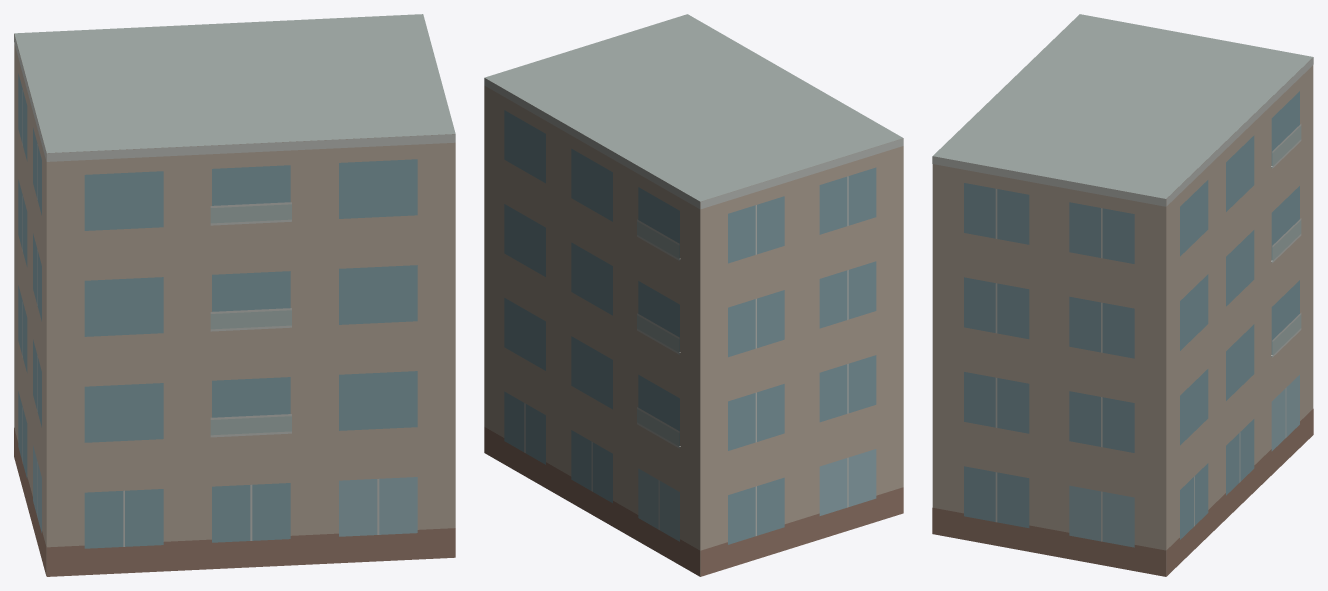
Rendered from survey-upis-32973887.glb.
3 views of the same model, side by side, from view 1: azimuth 30°, elevation 25°; view 2: azimuth 150°, elevation 25°; view 3: azimuth 270°, elevation 25° (orthographic). The views are drawn at different scales.
Visible parts, largest first — view 1: survey-upis-32973887.tmp; view 2: survey-upis-32973887.tmp; view 3: survey-upis-32973887.tmp.
Part boxes in pixels (left/top/right/bottom): survey-upis-32973887.tmp: left=14, top=14, right=455, bottom=576; survey-upis-32973887.tmp: left=484, top=14, right=903, bottom=576; survey-upis-32973887.tmp: left=932, top=14, right=1313, bottom=576.
Size of the model in its own units: 12.34 by 11.75 by 10.74.
